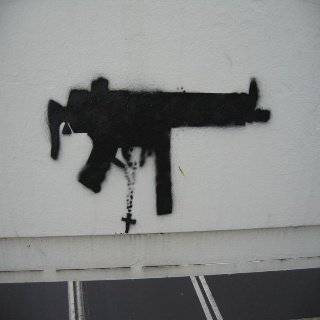rifle: (48, 68, 272, 218)
